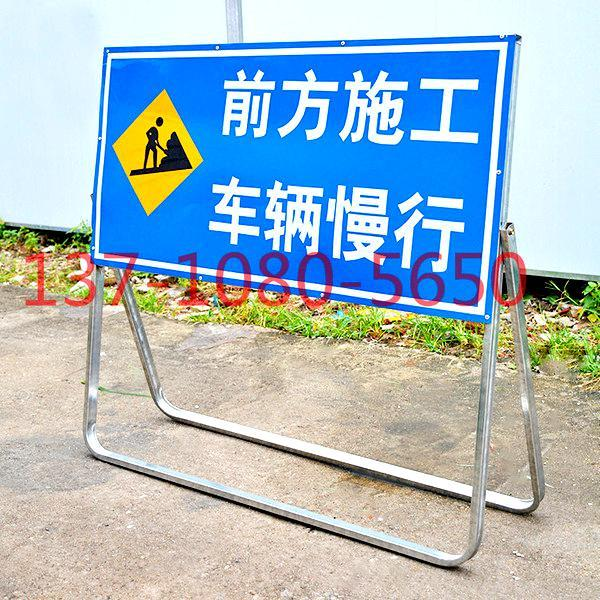sign: (96, 48, 507, 315)
